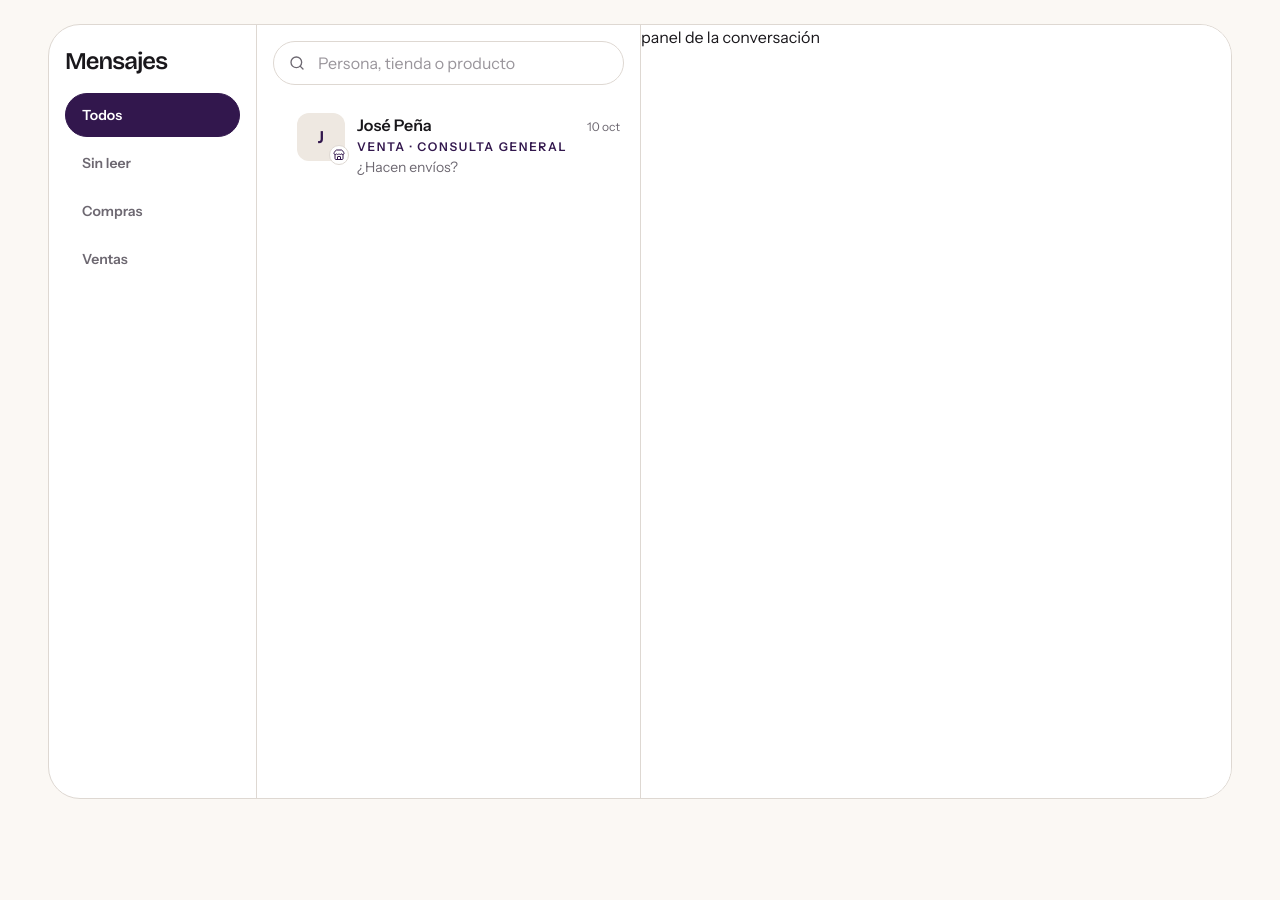
Test: inbox filters › says so when a filter leaves nothing
Click the button "Sin leer" at (152, 163), box [65, 141, 240, 185]
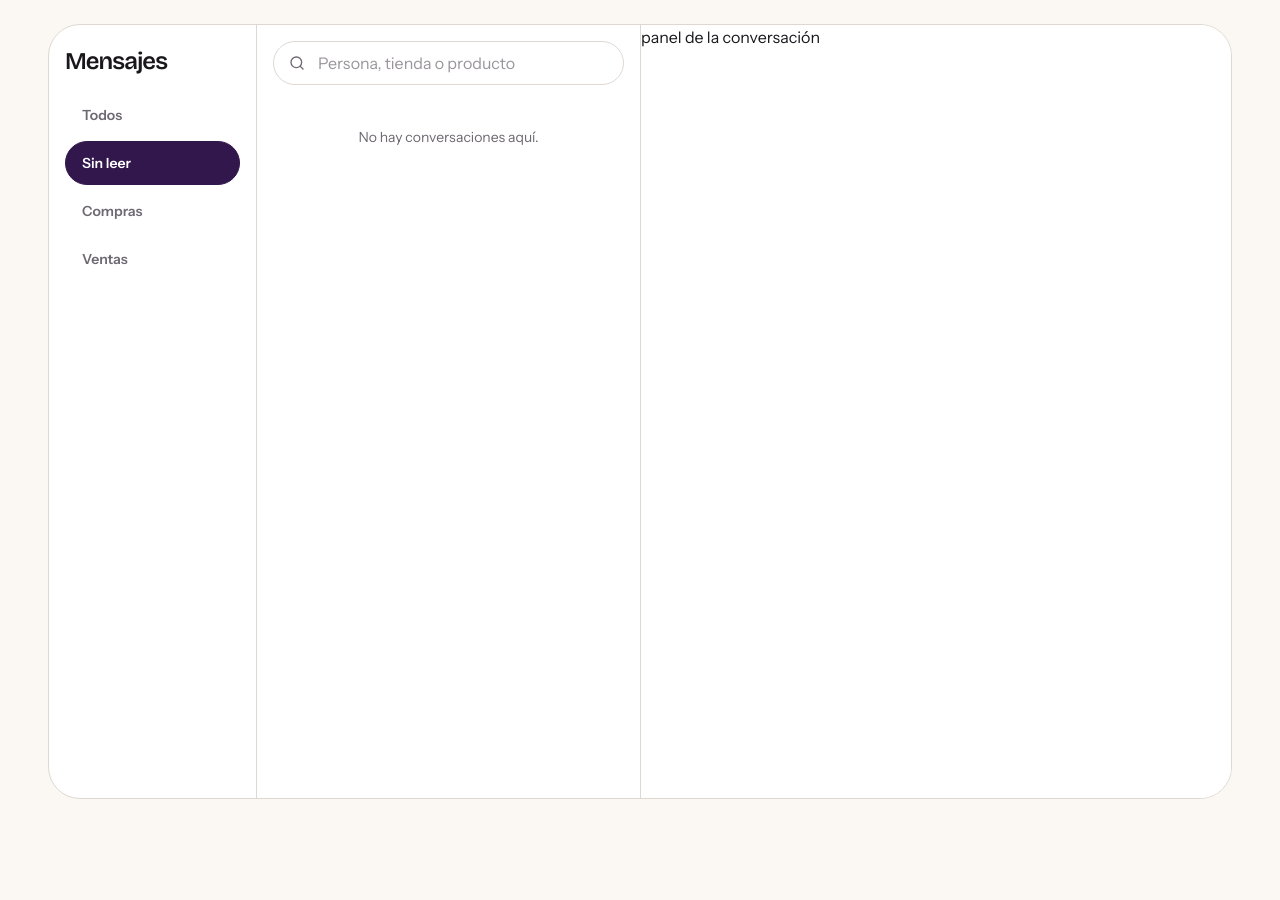
Expected: the text "No hay conversaciones aquí." is shown, [358, 128, 539, 146]
